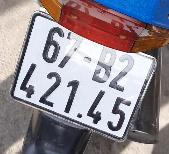1: (58, 75, 83, 116)
2: (106, 50, 138, 95), (36, 68, 66, 110)
4: (16, 59, 44, 101), (84, 86, 112, 127)
5: (104, 94, 134, 135)
6: (39, 22, 67, 67)
7: (55, 30, 88, 74)
B: (89, 42, 120, 88)
